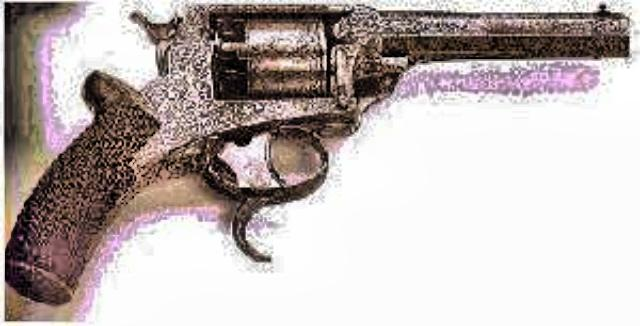pistol: (1, 0, 630, 298)
